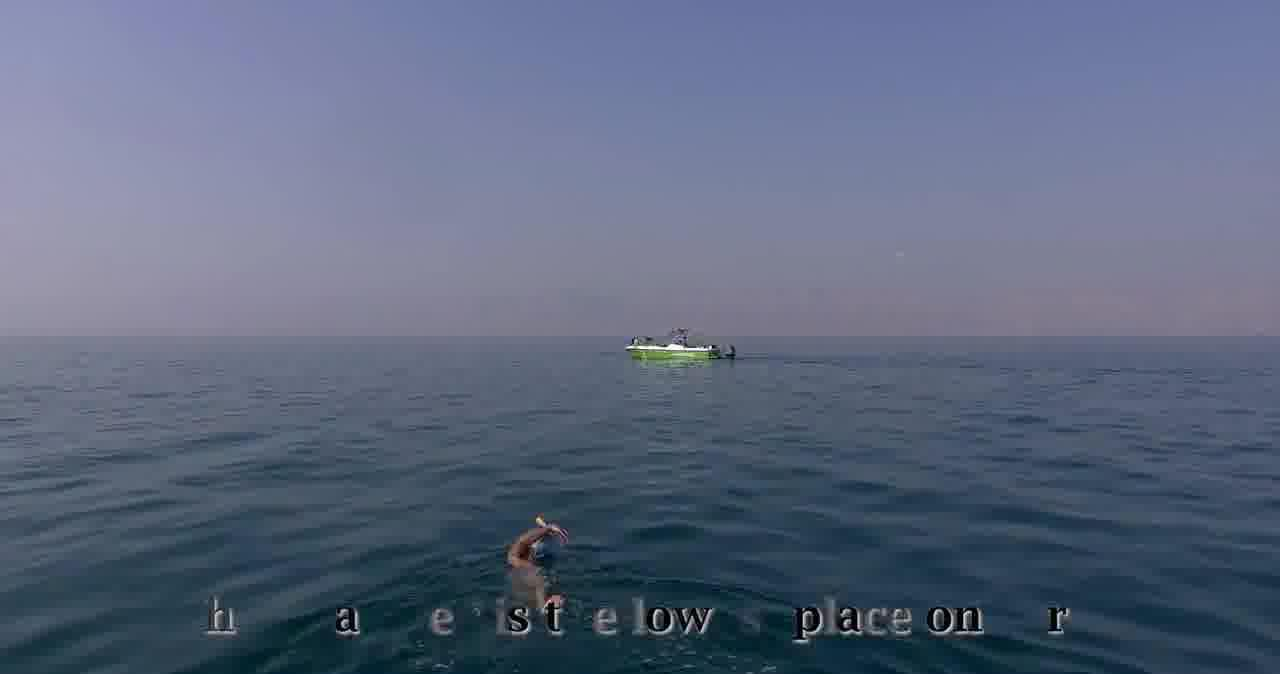swimmer: (488, 514, 588, 587)
